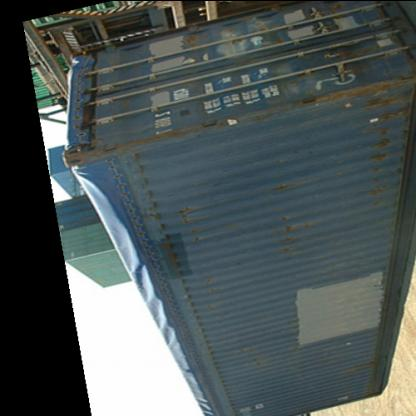Damage: (358, 76, 406, 194), (168, 199, 206, 252), (270, 207, 298, 270), (260, 176, 296, 198), (240, 342, 264, 374), (354, 352, 378, 370)
